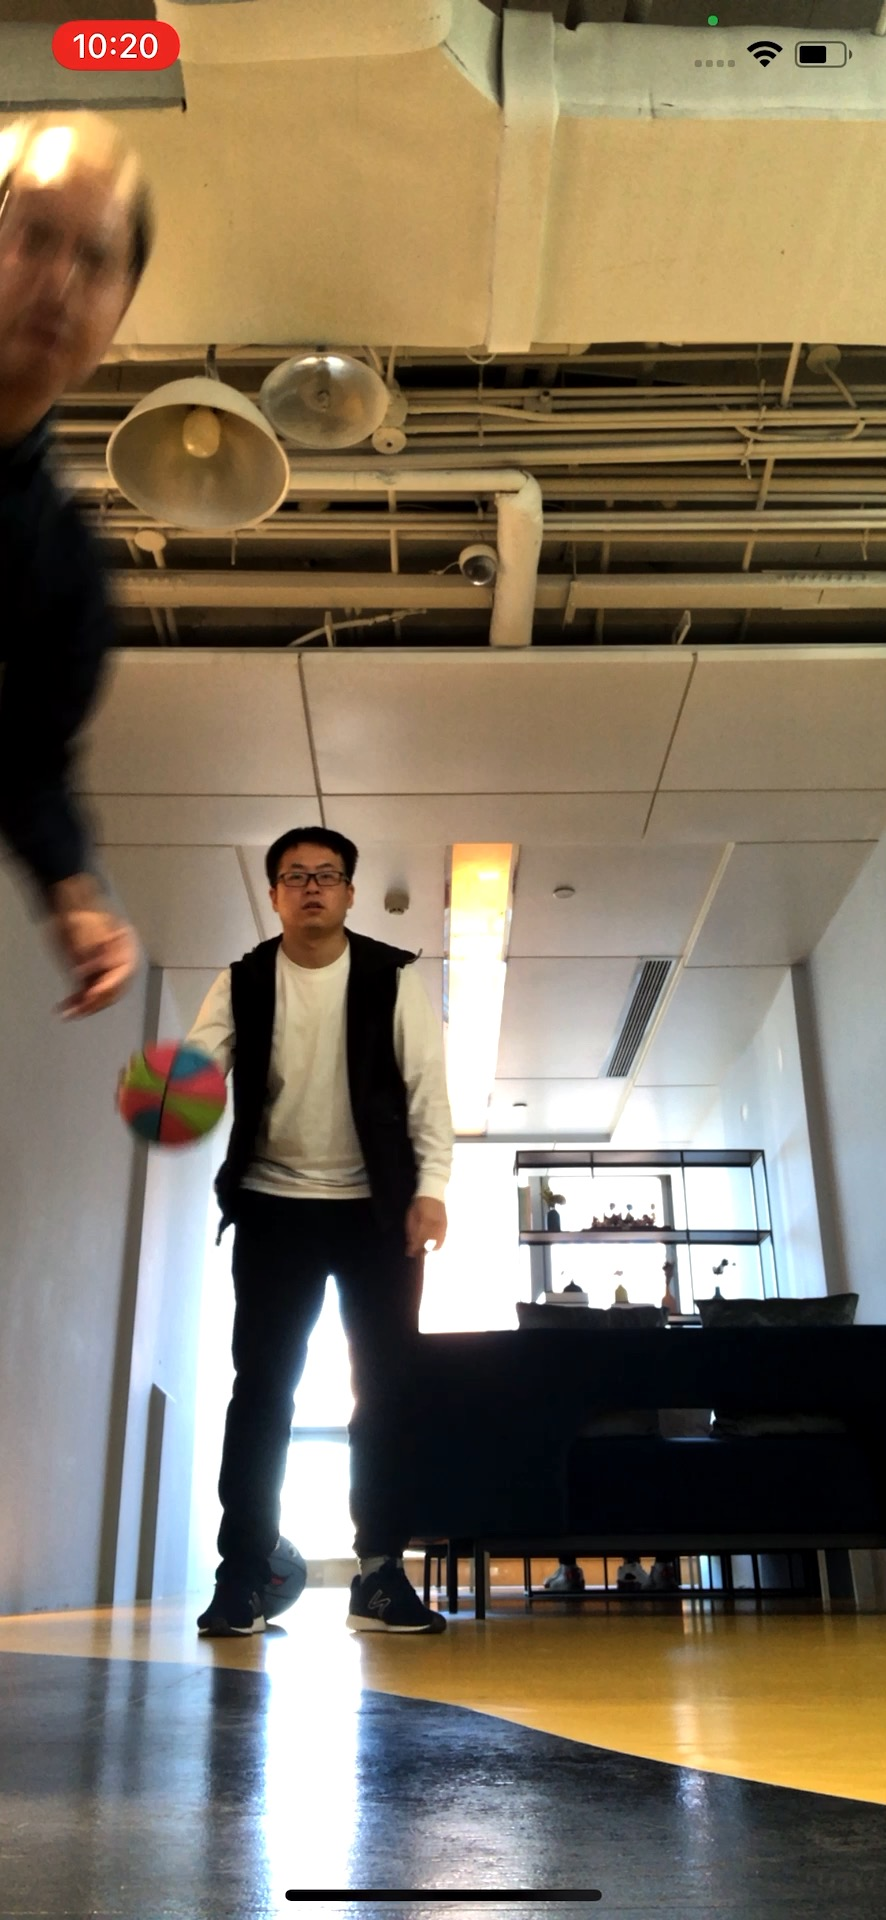ball: (114, 1041, 223, 1149)
